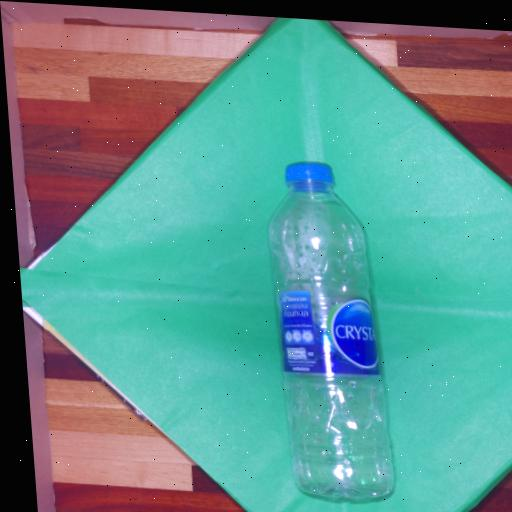bottle: (270, 162, 393, 497)
